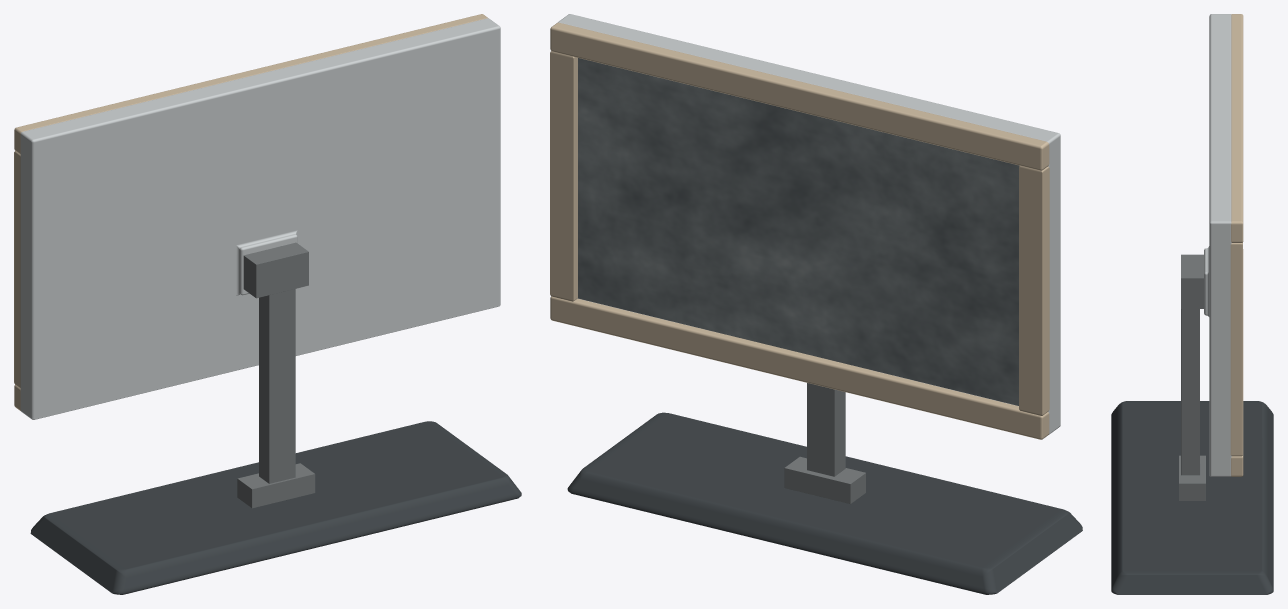
3 views of the same model, side by side, from view 1: azimuth 30°, elevation 25°; view 2: azimuth 150°, elevation 25°; view 3: azimuth 270°, elevation 25° (orthographic). The views are drawn at different scales.
Parts seen in each view (by area): view 1: monitor_body_bezel, base_stand, pedestal_arm; view 2: display_surface, monitor_body_bezel, base_stand, pedestal_arm; view 3: base_stand, monitor_body_bezel, pedestal_arm.
Part boxes in pixels (box(x1,y1,x2,y2)): monitor_body_bezel: box(14, 14, 500, 419); base_stand: box(30, 421, 521, 594); pedestal_arm: box(237, 242, 315, 508); display_surface: box(578, 58, 1019, 405); monitor_body_bezel: box(550, 14, 1060, 439); base_stand: box(567, 412, 1082, 594); pedestal_arm: box(784, 383, 865, 503); base_stand: box(1111, 401, 1273, 594); monitor_body_bezel: box(1204, 14, 1243, 476); pedestal_arm: box(1179, 254, 1205, 500).
Bounding box in the file's own units: 6.4 × 5.53 × 2.1.
Materials: 5 (1 with a texture image).
